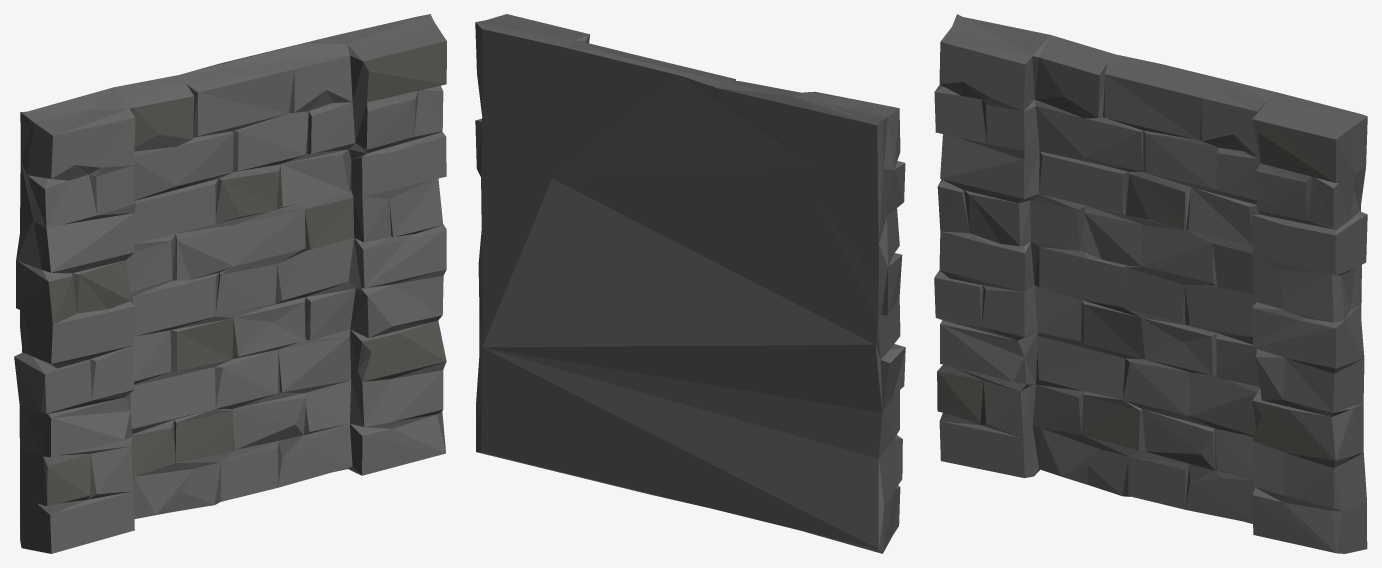
Rendered from SM_Env_Wall_06.FBX.
3 views of the same model, side by side, from view 1: azimuth 30°, elevation 25°; view 2: azimuth 150°, elevation 25°; view 3: azimuth 330°, elevation 25° (orthographic).
Visible parts, largest first — view 1: SM_Env_Wall_06; view 2: SM_Env_Wall_06; view 3: SM_Env_Wall_06.
Boxes of the visible parts, box(x1,y1,x2,y2) form: SM_Env_Wall_06: box(14, 14, 446, 553); SM_Env_Wall_06: box(475, 14, 905, 553); SM_Env_Wall_06: box(934, 14, 1367, 553).
Size of what is drawn, in the model's own units: 528 by 59.91 by 530.
